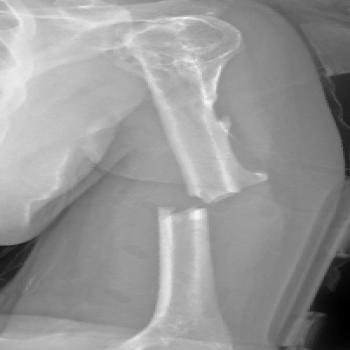Fracture: (146, 174, 266, 227)
